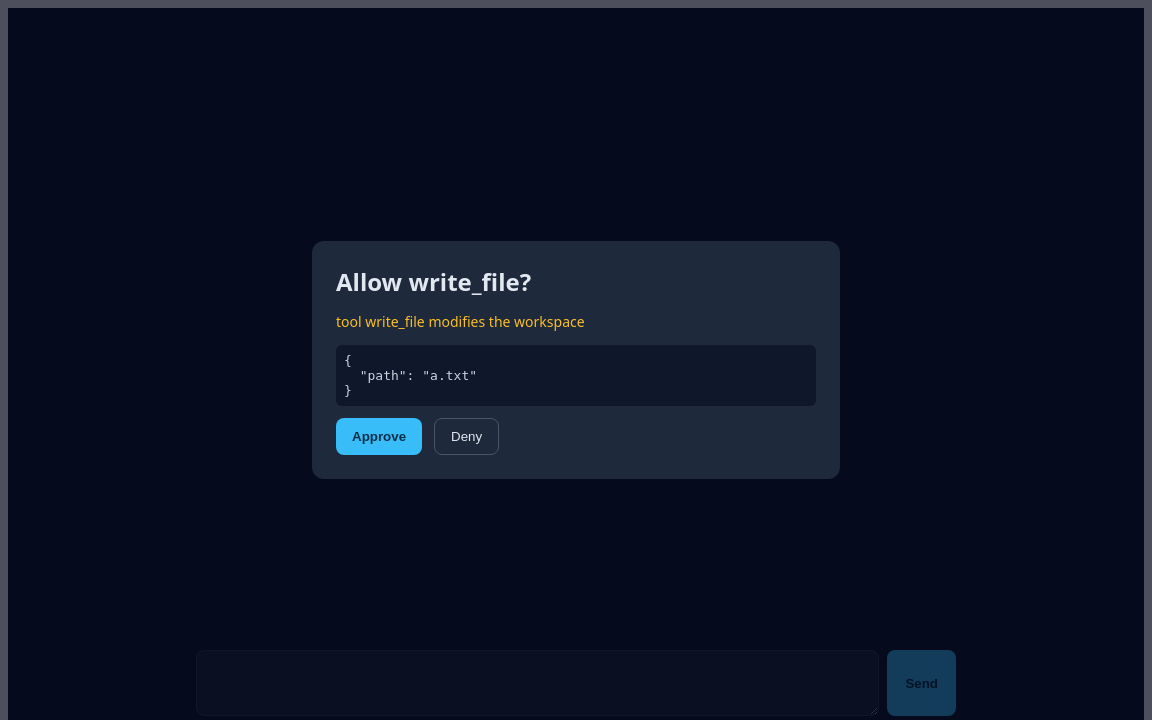
Scenario: ChatView › opens a confirm dialog and reports the user decision
Expected: the heading "Allow write_file?" is shown, left=336, top=265, right=531, bottom=298
Step 1. Click the button "Approve" → click(379, 436), box left=336, top=418, right=422, bottom=455
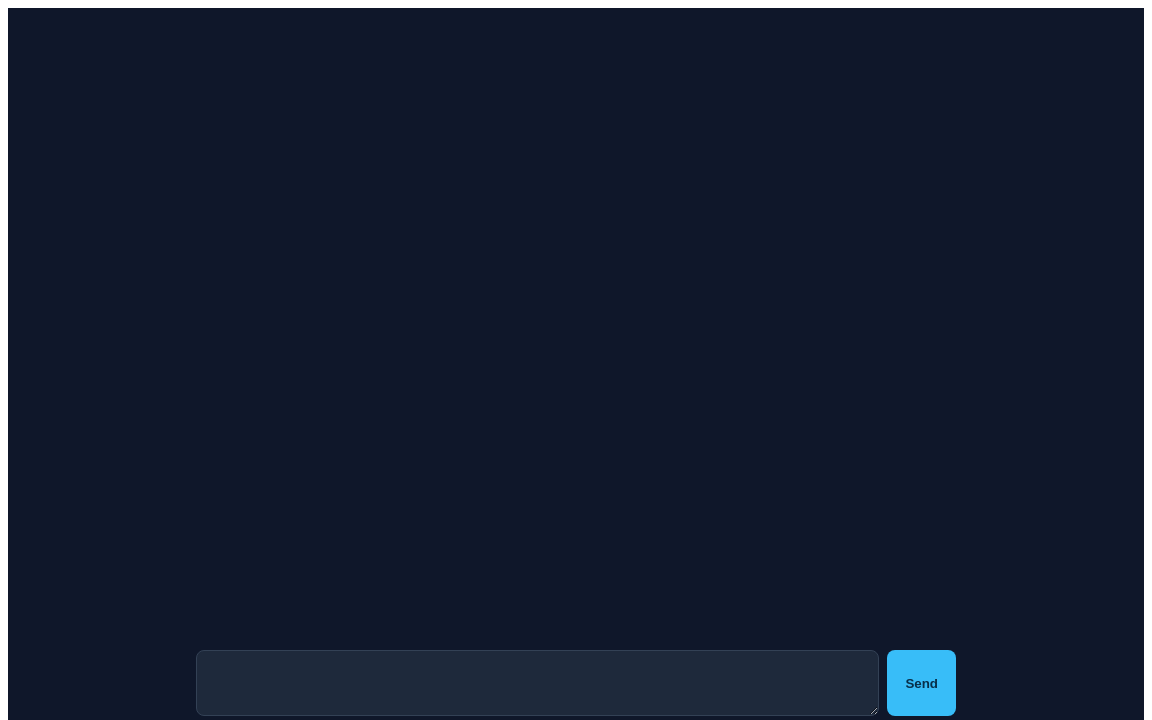
Expected: the button "Approve" is gone
